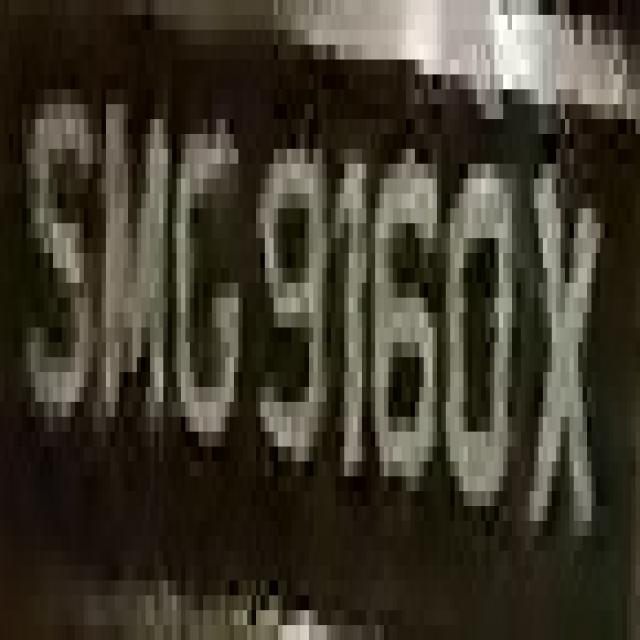0: (437, 134, 516, 521)
1: (336, 74, 375, 506)
6: (362, 134, 441, 506)
9: (256, 104, 322, 506)
G: (163, 89, 247, 491)
M: (88, 74, 177, 462)
S: (22, 30, 93, 446)
X: (525, 134, 609, 536)
